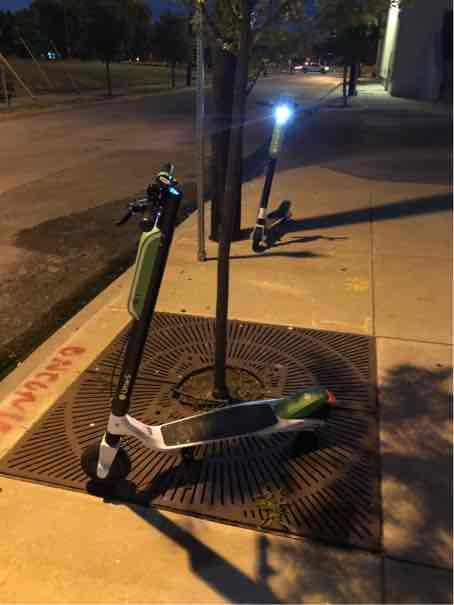scooter: (83, 149, 348, 489), (246, 79, 314, 256)
